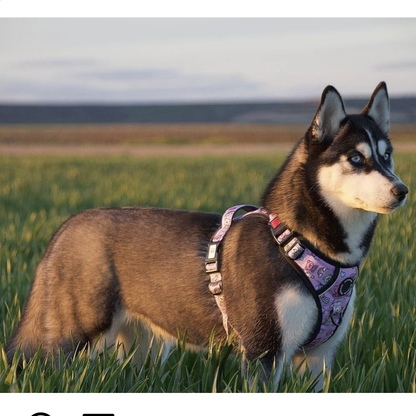husky: (5, 76, 413, 391)
